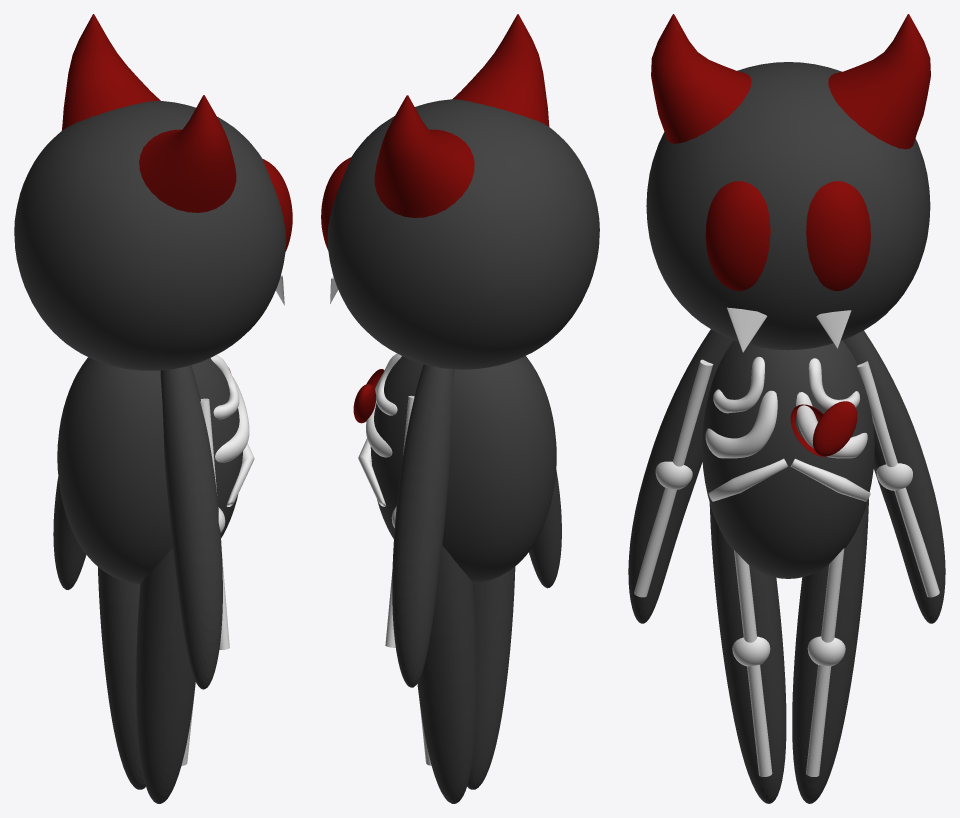
The model's file is NM1 Updated 3.fbx.
The picture shows the model from 3 angles, left to right: view 1: azimuth 30°, elevation 25°; view 2: azimuth 150°, elevation 25°; view 3: azimuth 270°, elevation 25°; orthographic projection. The views are drawn at different scales.
Visible parts, largest first — view 1: Cube, Cube.003, Cube.004, Cube.006, Cylinder, Cube.007, Cylinder.001, Cube.005, Torus.002, Cube.001, Cylinder.007, Torus.001 (+1 smaller); view 2: Cube, Cube.003, Cube.005, Cube.007, Cylinder.001, Cube.006, Cylinder, Cube.004, Cube.002, Sphere.001, Torus.004, Cylinder.004 (+2 smaller); view 3: Cube, Cube.003, Cube.007, Cube.006, Cube.004, Cube.005, Cylinder.001, Cylinder, Cube.001, Cube.002, Cylinder.007, Cylinder.008 (+15 smaller).
Boxes of the visible parts, x1,y1,x2,y2 form: Cube: [14, 100, 286, 370]; Cube.003: [57, 357, 242, 584]; Cube.004: [160, 365, 222, 689]; Cube.006: [136, 548, 195, 803]; Cylinder: [139, 95, 236, 212]; Cube.007: [98, 567, 145, 789]; Cylinder.001: [61, 14, 160, 130]; Cube.005: [53, 477, 86, 589]; Torus.002: [215, 376, 249, 462]; Cube.001: [262, 159, 292, 251]; Cylinder.007: [200, 398, 229, 649]; Torus.001: [211, 355, 239, 419]; Cube: [327, 99, 599, 369]; Cube.003: [370, 356, 556, 583]; Cube.005: [392, 364, 454, 687]; Cube.007: [417, 545, 476, 803]; Cylinder.001: [374, 95, 474, 217]; Cube.006: [467, 566, 515, 789]; Cylinder: [452, 14, 549, 126]; Cube.004: [529, 470, 561, 588]; Cube.002: [321, 157, 350, 250]; Sphere.001: [353, 369, 384, 423]; Torus.004: [366, 374, 392, 457]; Cylinder.004: [358, 438, 386, 506]; Cube: [646, 62, 930, 350]; Cube.003: [702, 340, 874, 578]; Cube.007: [792, 498, 868, 803]; Cube.006: [709, 503, 786, 803]; Cube.004: [628, 329, 733, 623]; Cube.005: [843, 330, 945, 623]; Cylinder.001: [828, 14, 930, 149]; Cylinder: [651, 14, 751, 143]; Cube.001: [705, 181, 770, 291]; Cube.002: [806, 181, 870, 290]; Cylinder.007: [634, 359, 713, 597]; Cylinder.008: [857, 361, 939, 597].
Size of the model in its own units: 169 by 515 by 188.
